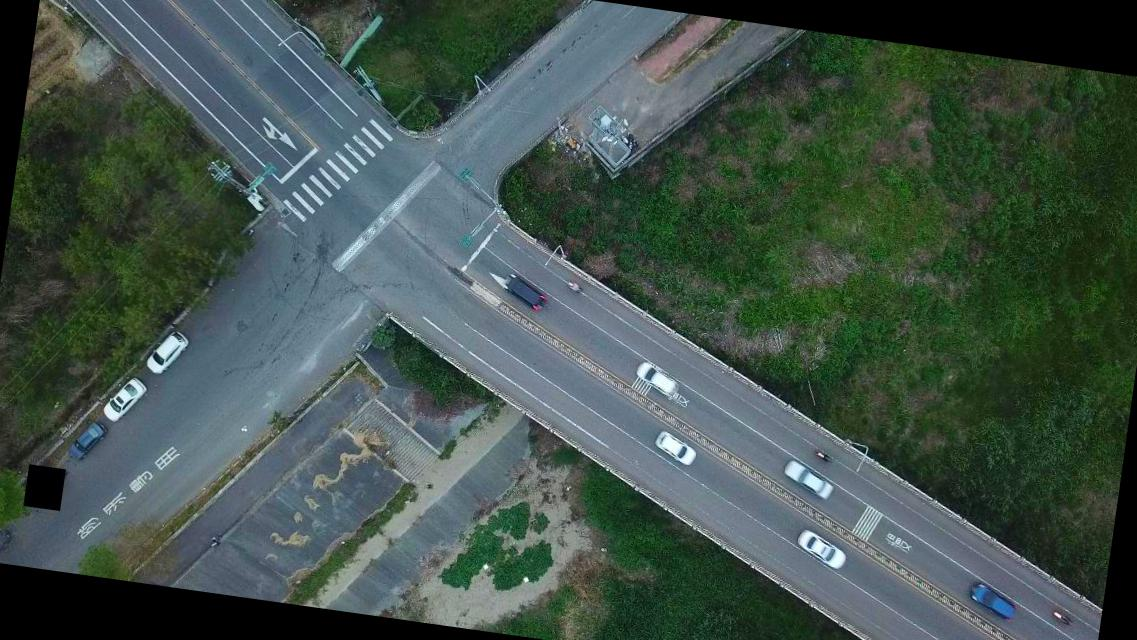vehicle: (780, 456, 836, 502), (100, 374, 147, 426), (142, 326, 188, 376), (792, 530, 847, 570), (966, 582, 1020, 622), (66, 418, 108, 466), (498, 272, 548, 312), (632, 362, 683, 399), (653, 430, 700, 470)
